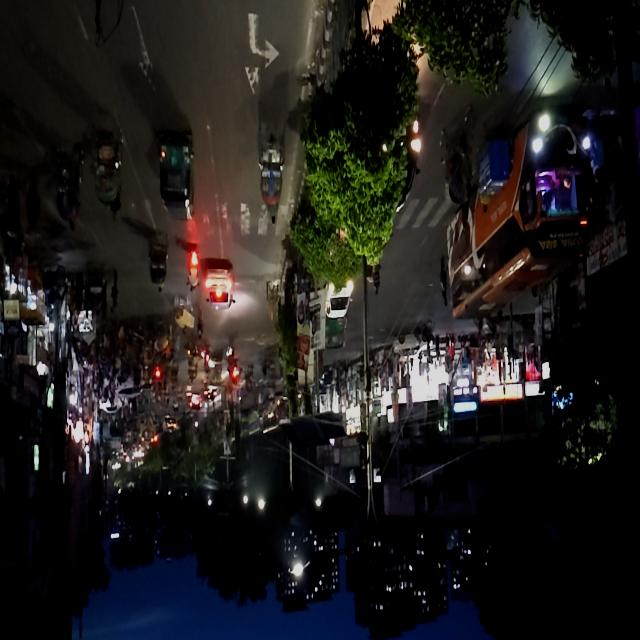white: (205, 264, 236, 313), (326, 271, 355, 321)
